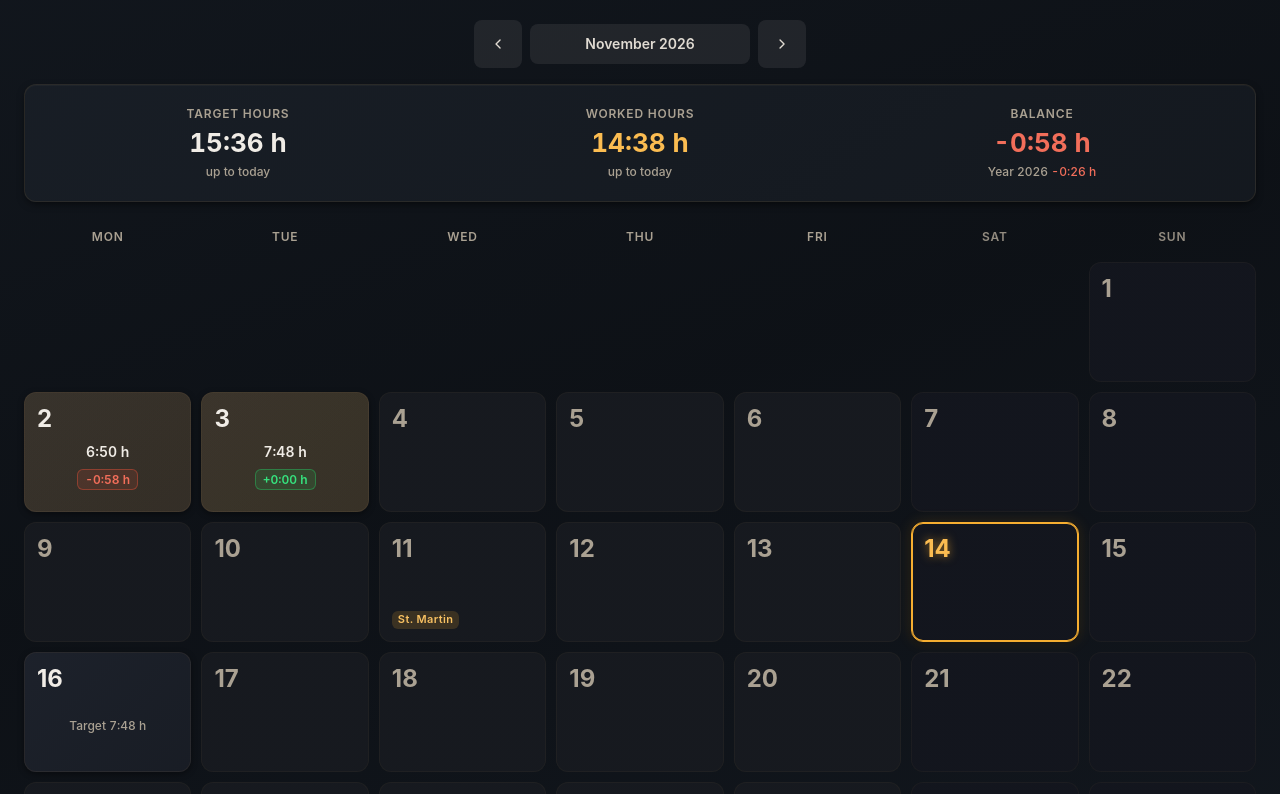
Test: MonthPage › opens the dialog for the clicked day (mouse and keyboard)
This screenshot has width=1280, height=794.
Click the button named "02/11/2026" at [108, 452], box [24,392,191,512]
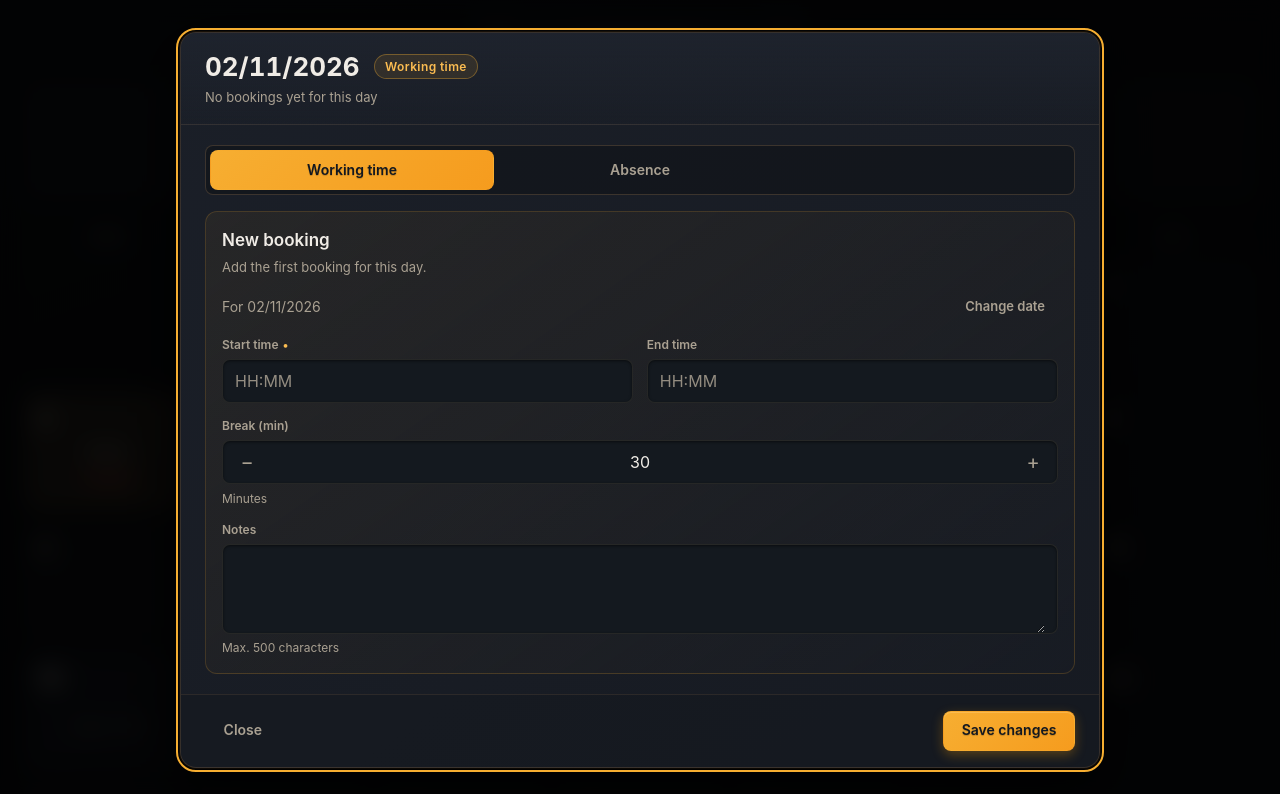
Check: the dialog shows "02/11/2026", box [205,51,360,82]
Click the button "Close" at [243, 731], box [205,711,281,751]
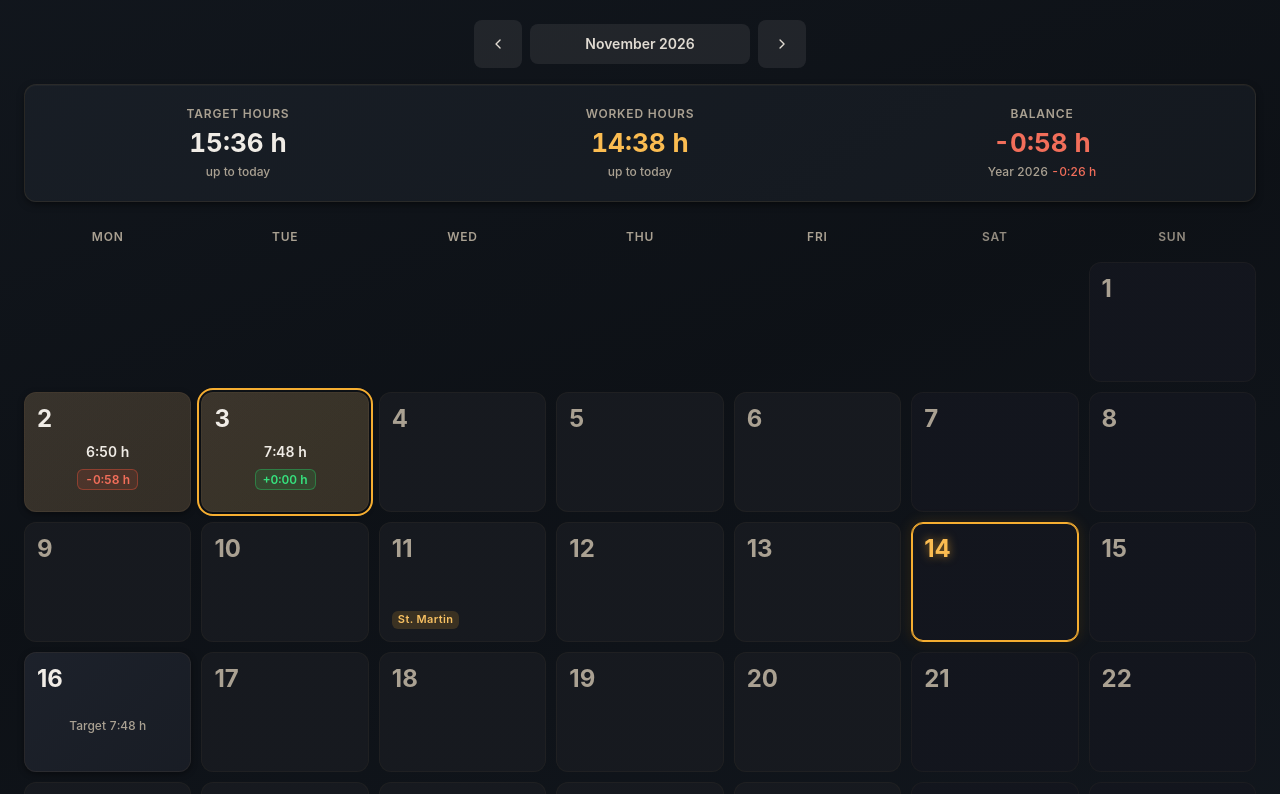
Check: the dialog is gone
Press Enter
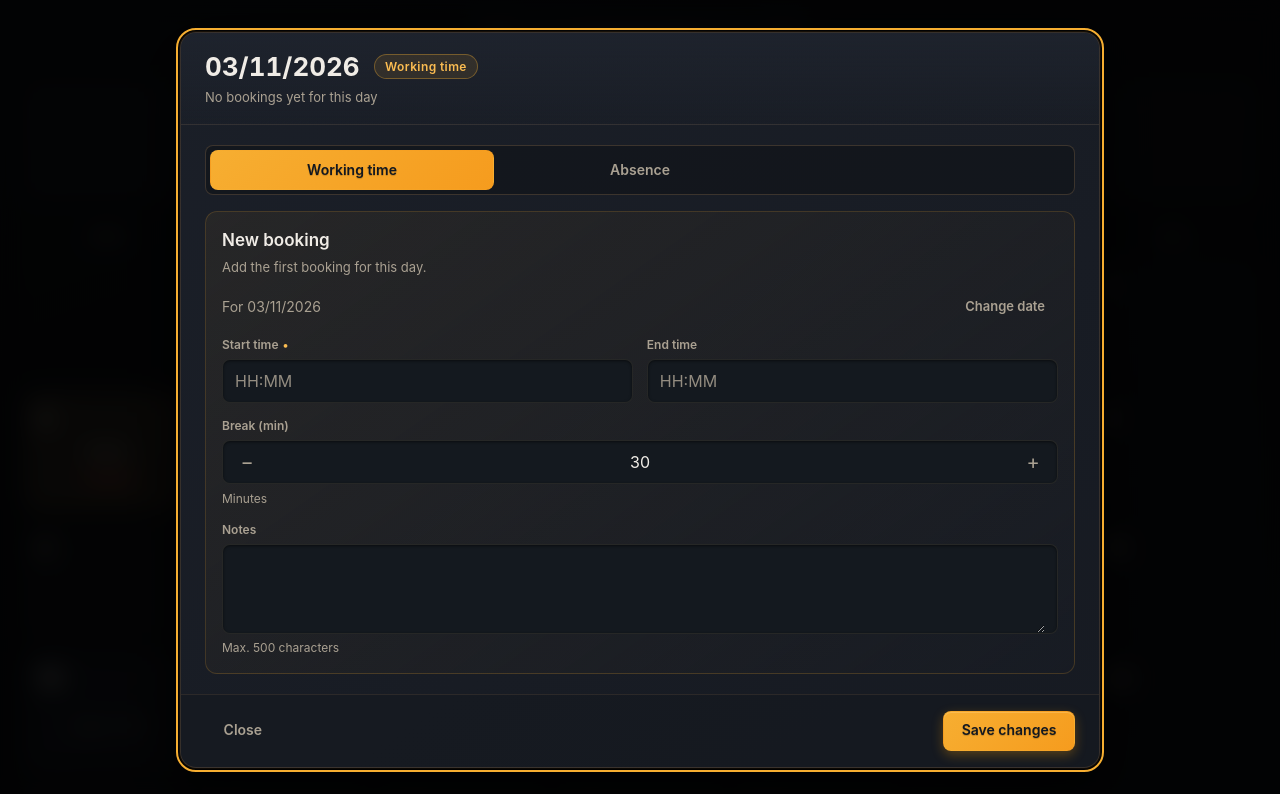
Check: the dialog shows "03/11/2026", box [205,51,360,82]
